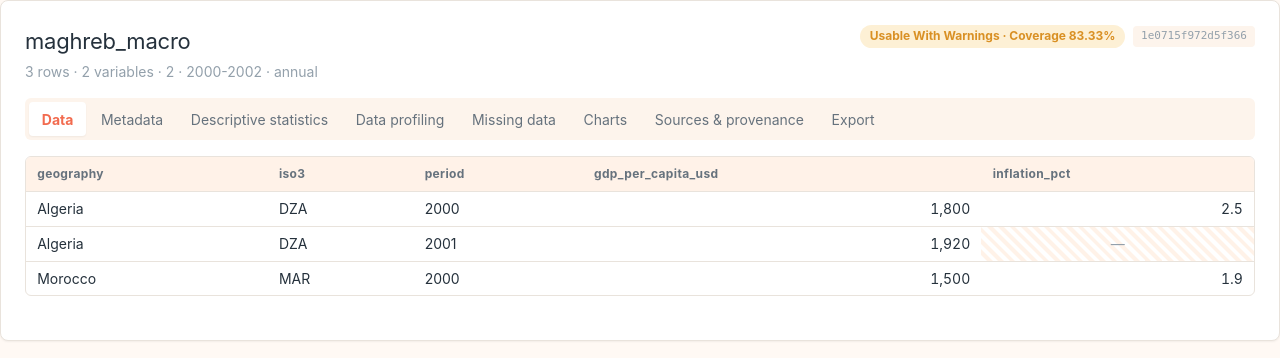
Scenario: DatasetWorkspace › shows a citation and source link for every column
Expected: the heading "maghreb_macro" is shown, [25, 28, 191, 54]
Click the tab "Sources & provenance" at (729, 119), box [642, 102, 817, 136]
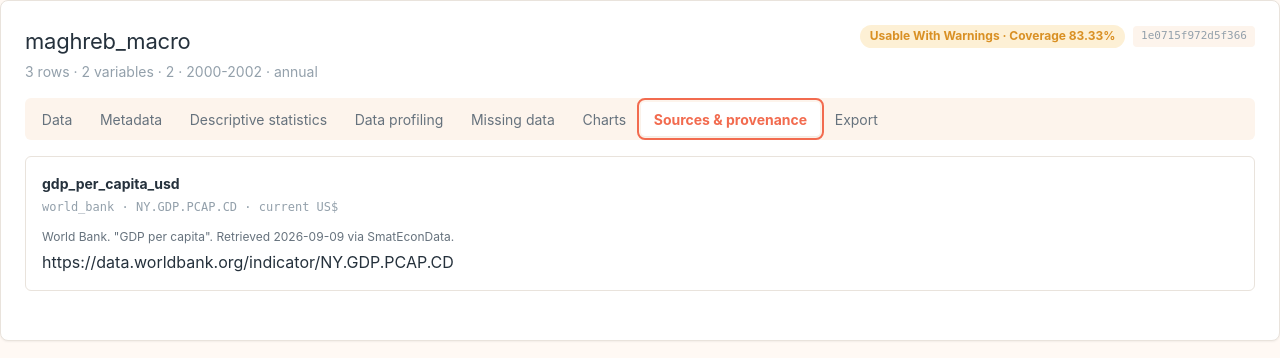
Now the text "via SmatEconData" is shown, box [42, 229, 454, 244]
